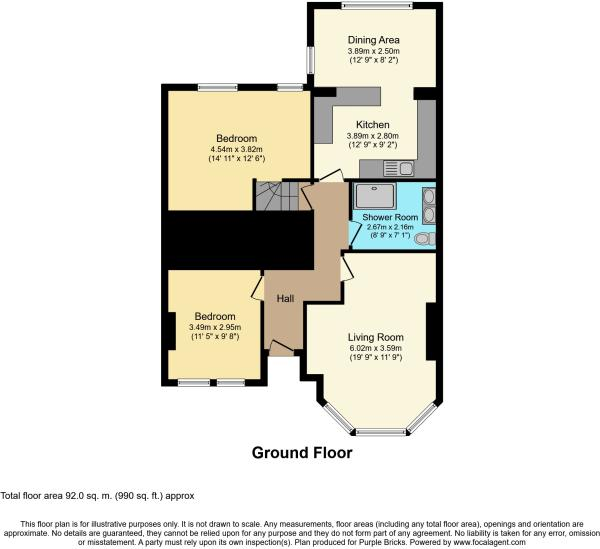GrossArea: (1, 489, 200, 502)
